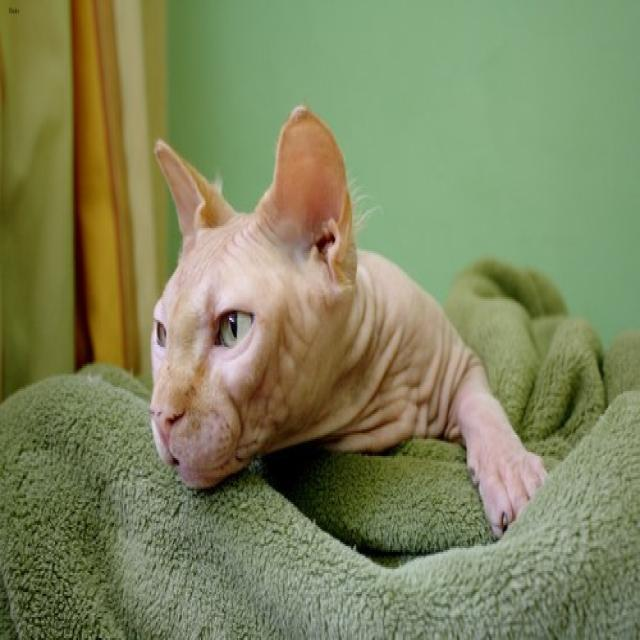Sphynx: (149, 105, 355, 485)
